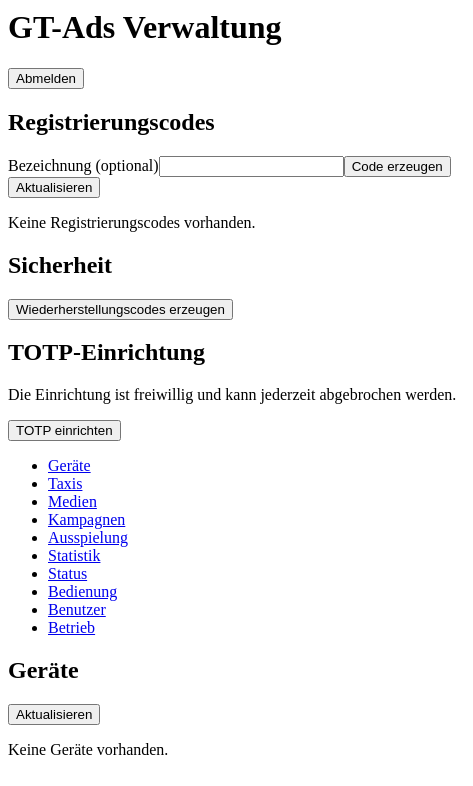
Scenario: CX-059 Benutzerliste › fragt ohne bestätigten Admin nicht ab und behandelt 403 sowie 401 der aktuellen Sitzung
Later steps or results of the test are not shown.
Expected: the heading "Geräte" is shown, [8, 657, 79, 683]
Step 1. Click the link "Benutzer" → (77, 610), box [48, 601, 106, 618]
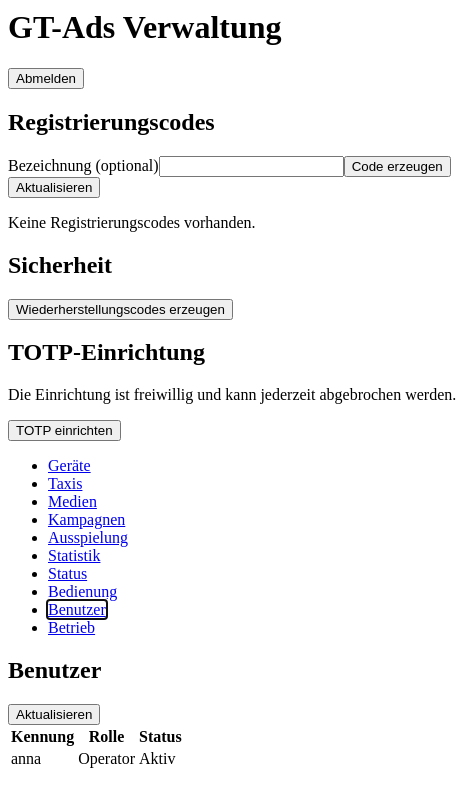
Now the heading "Benutzer" is shown, box [8, 657, 101, 683]
Now the text "anna" is shown, box [10, 749, 75, 769]
Step 2. Click the 2nd button "Aktualisieren" → (54, 715), box [8, 704, 100, 725]
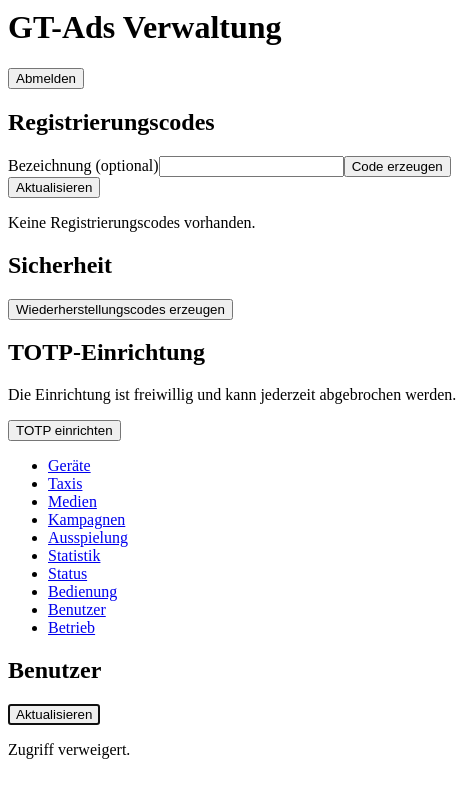
Now the text "Zugriff verweigert." is shown, box [8, 741, 130, 758]
Now the text "anna" is gone
Now the table is gone
Step 3. Click the 2nd button "Aktualisieren" → (54, 715), box [8, 704, 100, 725]
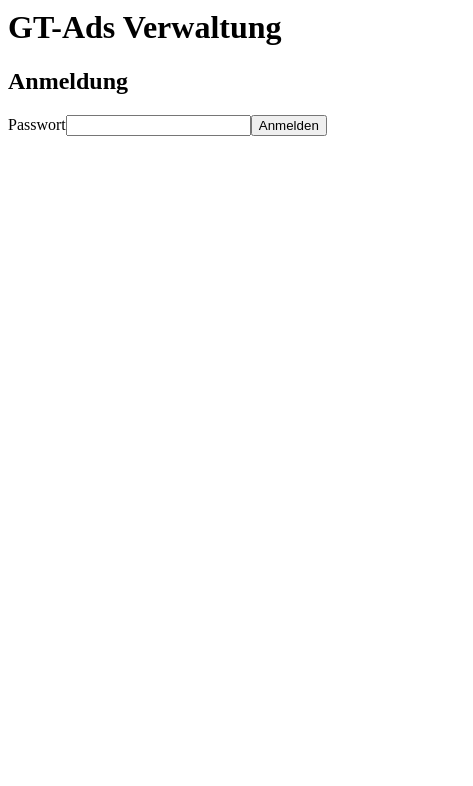
Expected: the text "anna" is not shown
Now the heading "Anmeldung" is shown, box [8, 68, 128, 94]
